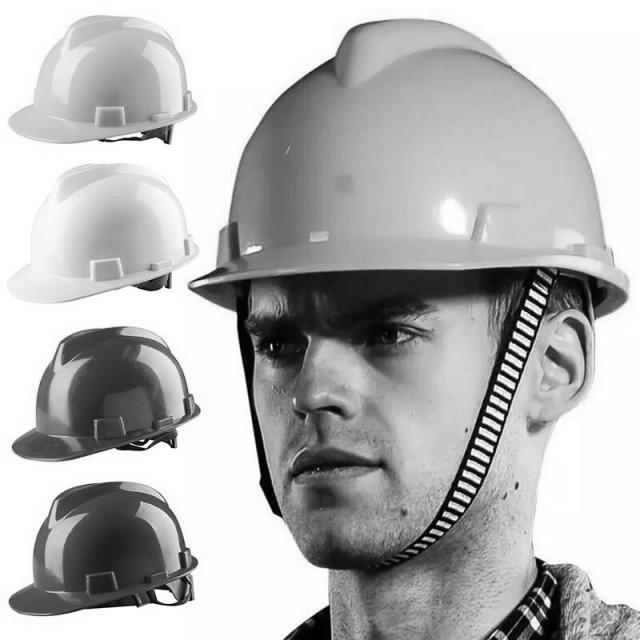safety_helmet: (190, 22, 630, 319)
